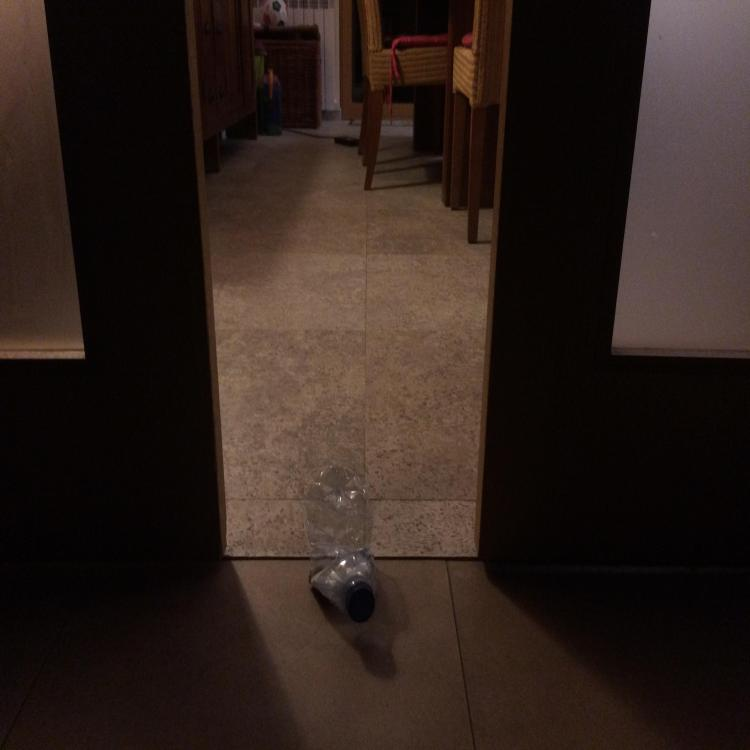Clear plastic bottle: (304, 462, 378, 624)
Plastic bottle cap: (346, 582, 374, 623)
